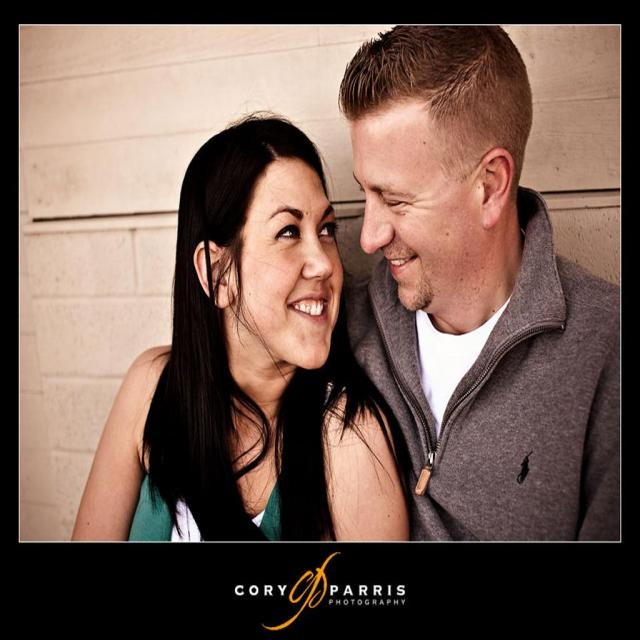nomask: (355, 89, 471, 305), (246, 154, 345, 372)
